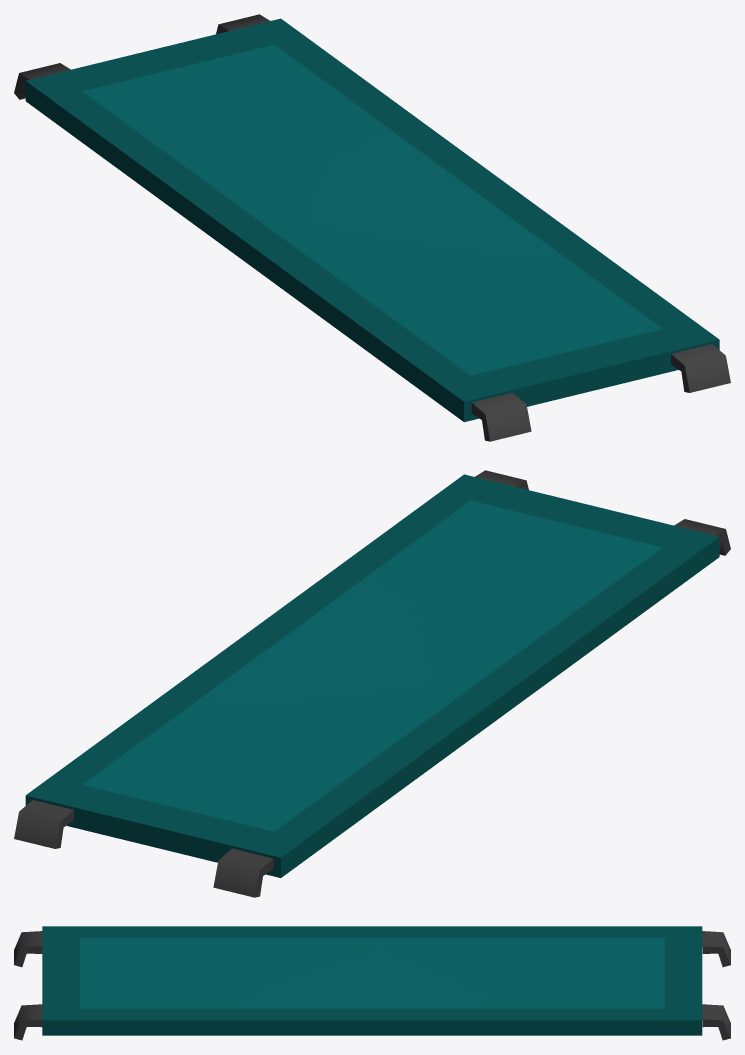
The model's file is Scaffolding_Plank_E.glb.
The picture shows the model from 3 angles, top to bottom: view 1: azimuth 30°, elevation 25°; view 2: azimuth 150°, elevation 25°; view 3: azimuth 270°, elevation 25°; orthographic projection. The views are drawn at different scales.
Parts seen in each view (by area): view 1: Scaffolding_Plank_E; view 2: Scaffolding_Plank_E; view 3: Scaffolding_Plank_E.
Boxes of the visible parts, <box> form: Scaffolding_Plank_E: <box>14,14,730,441</box>; Scaffolding_Plank_E: <box>14,470,730,897</box>; Scaffolding_Plank_E: <box>14,926,730,1040</box>.
Bounding box in the file's own units: 0.6543 × 0.0753 × 2.11.
Materials: 2 (2 with a texture image).
